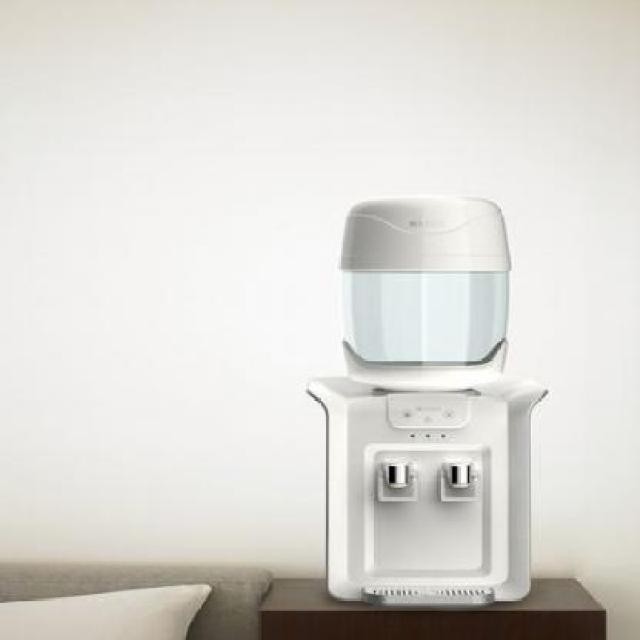cooler: (301, 192, 554, 612)
